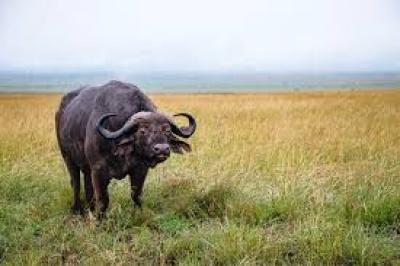buffalo: (55, 80, 195, 219)
